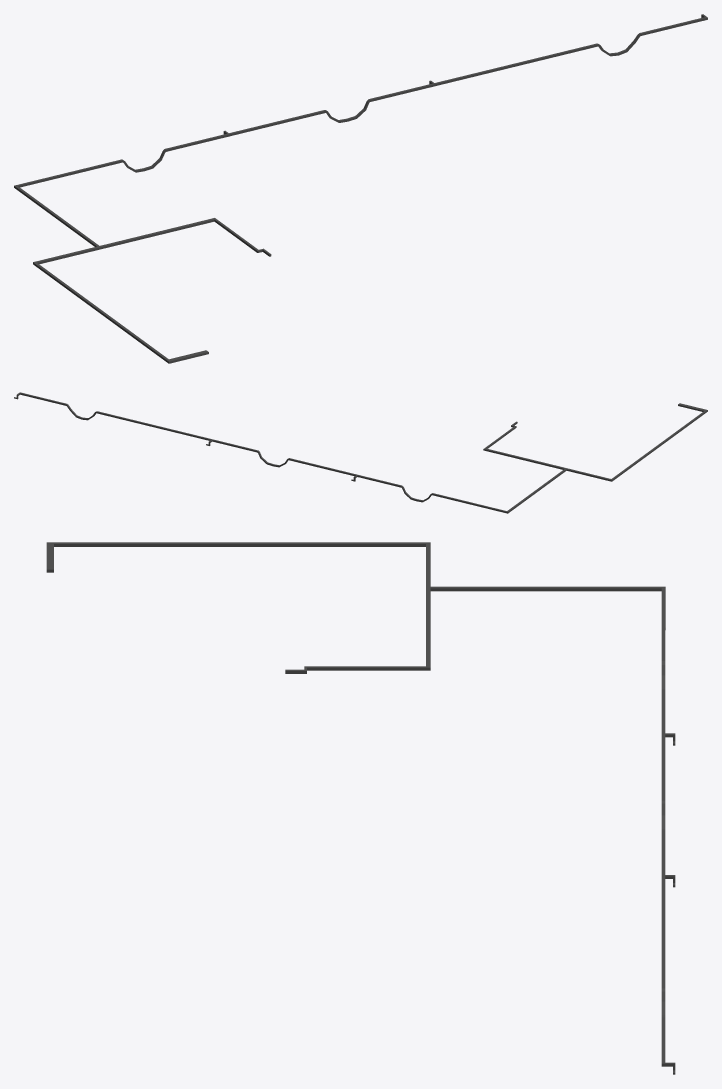
File: ob_wire_l2_1.fbx
The picture shows the model from 3 angles, top to bottom: view 1: azimuth 30°, elevation 25°; view 2: azimuth 150°, elevation 25°; view 3: azimuth 270°, elevation 25°; orthographic projection. The views are drawn at different scales.
Parts seen in each view (by area): view 1: ob_wire_l2_1; view 2: ob_wire_l2_1; view 3: ob_wire_l2_1.
Part boxes in pixels (<box>): ob_wire_l2_1: <box>14,14,707,363</box>; ob_wire_l2_1: <box>14,392,707,513</box>; ob_wire_l2_1: <box>46,542,675,1074</box>.
Bounding box in the file's own units: 1198 × 24.34 × 607.
